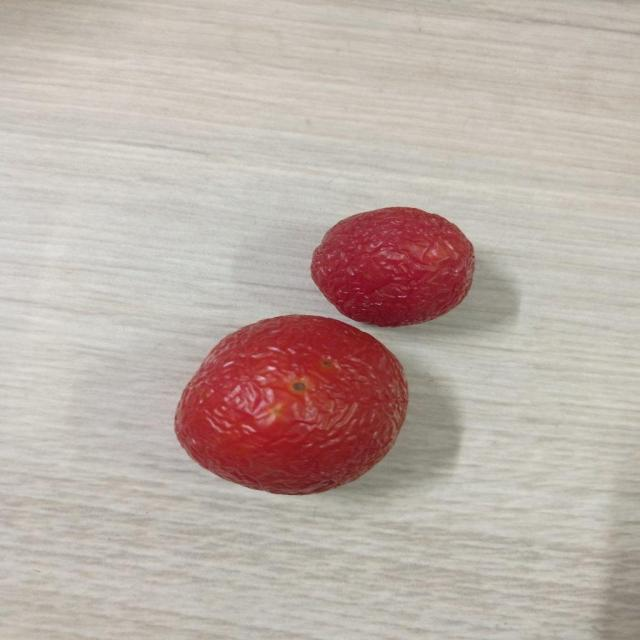overripe: (172, 312, 411, 498), (308, 204, 481, 321)
